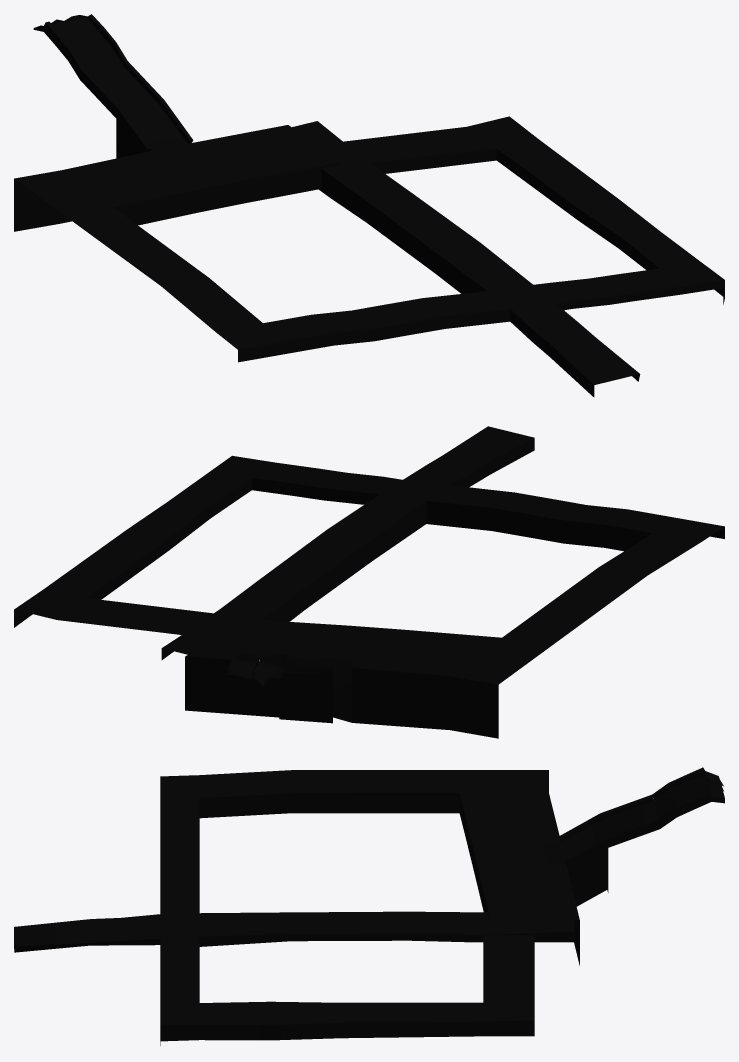
The model's file is Rua.fbx.
3 views of the same model, one above another, from view 1: azimuth 30°, elevation 25°; view 2: azimuth 150°, elevation 25°; view 3: azimuth 270°, elevation 25° (orthographic). The views are drawn at different scales.
Visible parts, largest first — view 1: Prasa1; view 2: Prasa1; view 3: Prasa1.
Boxes of the visible parts, box(x1,y1,x2,y2) form: Prasa1: box(14, 14, 724, 397); Prasa1: box(14, 426, 724, 738); Prasa1: box(14, 767, 724, 1045).
Size of the model in its own units: 5542 by 1582 by 8055.
